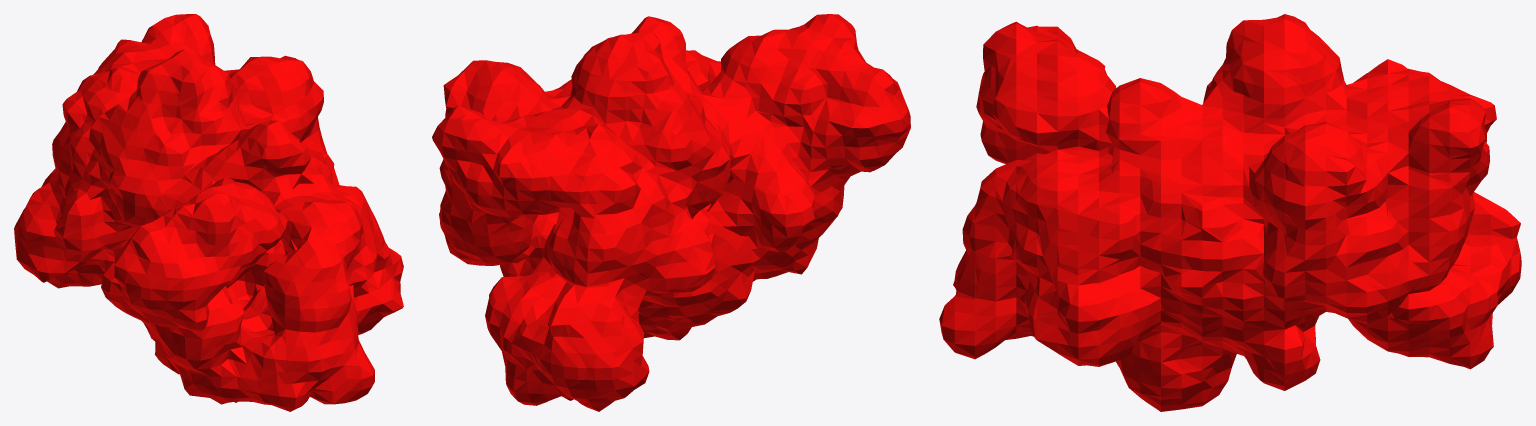
File: lepA_coarse.dae
3 renders of one model, left to right at view 1: azimuth 30°, elevation 25°; view 2: azimuth 150°, elevation 25°; view 3: azimuth 270°, elevation 25°, orthographic. The views are drawn at different scales.
Parts seen in each view (by area): view 1: lepA; view 2: lepA; view 3: lepA.
Part boxes in pixels (left/top/right/bottom): lepA: left=14, top=14, right=403, bottom=411; lepA: left=432, top=14, right=910, bottom=411; lepA: left=939, top=14, right=1521, bottom=411.
Bounding box in the file's own units: 124 × 119 × 167.
